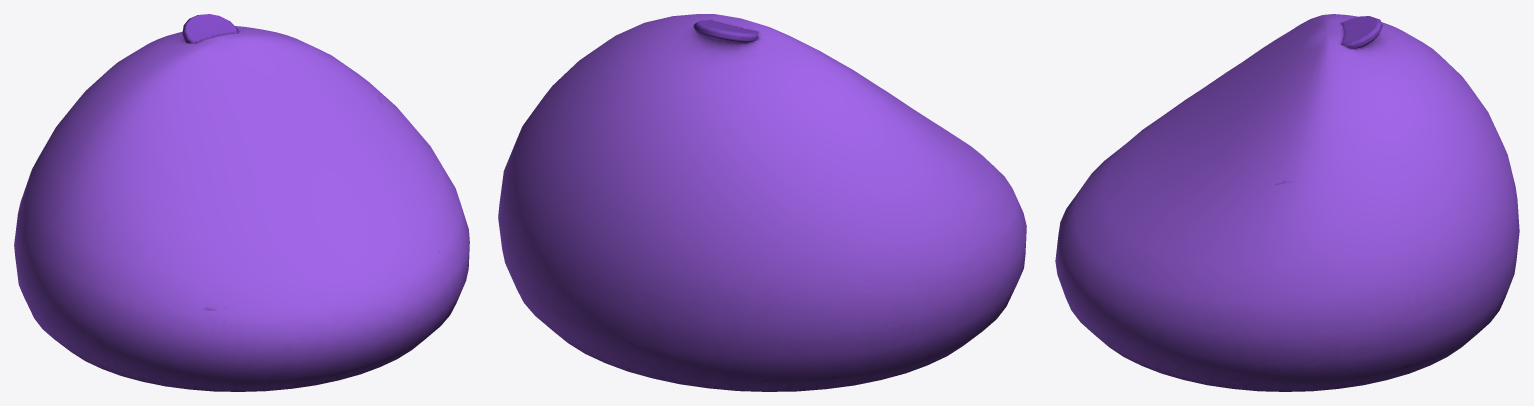
The model's file is beanbag.glb.
The picture shows the model from 3 angles, left to right: view 1: azimuth 30°, elevation 25°; view 2: azimuth 150°, elevation 25°; view 3: azimuth 270°, elevation 25°; orthographic projection. The views are drawn at different scales.
Parts seen in each view (by area): view 1: beanbag; view 2: beanbag; view 3: beanbag.
Boxes of the visible parts, bbox=[...] form: beanbag: bbox=[14, 14, 469, 391]; beanbag: bbox=[498, 14, 1026, 391]; beanbag: bbox=[1055, 14, 1519, 391].
Bounding box in the file's own units: 0.945 × 0.6272 × 0.8901.
2 materials, 2 textured.
